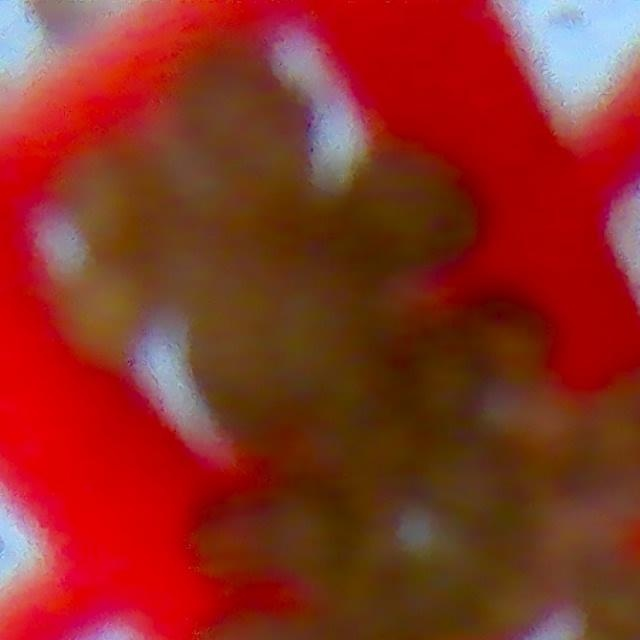SeaGrape: (336, 142, 510, 279), (173, 48, 320, 190), (67, 163, 199, 275), (56, 279, 172, 363), (473, 301, 562, 406)
